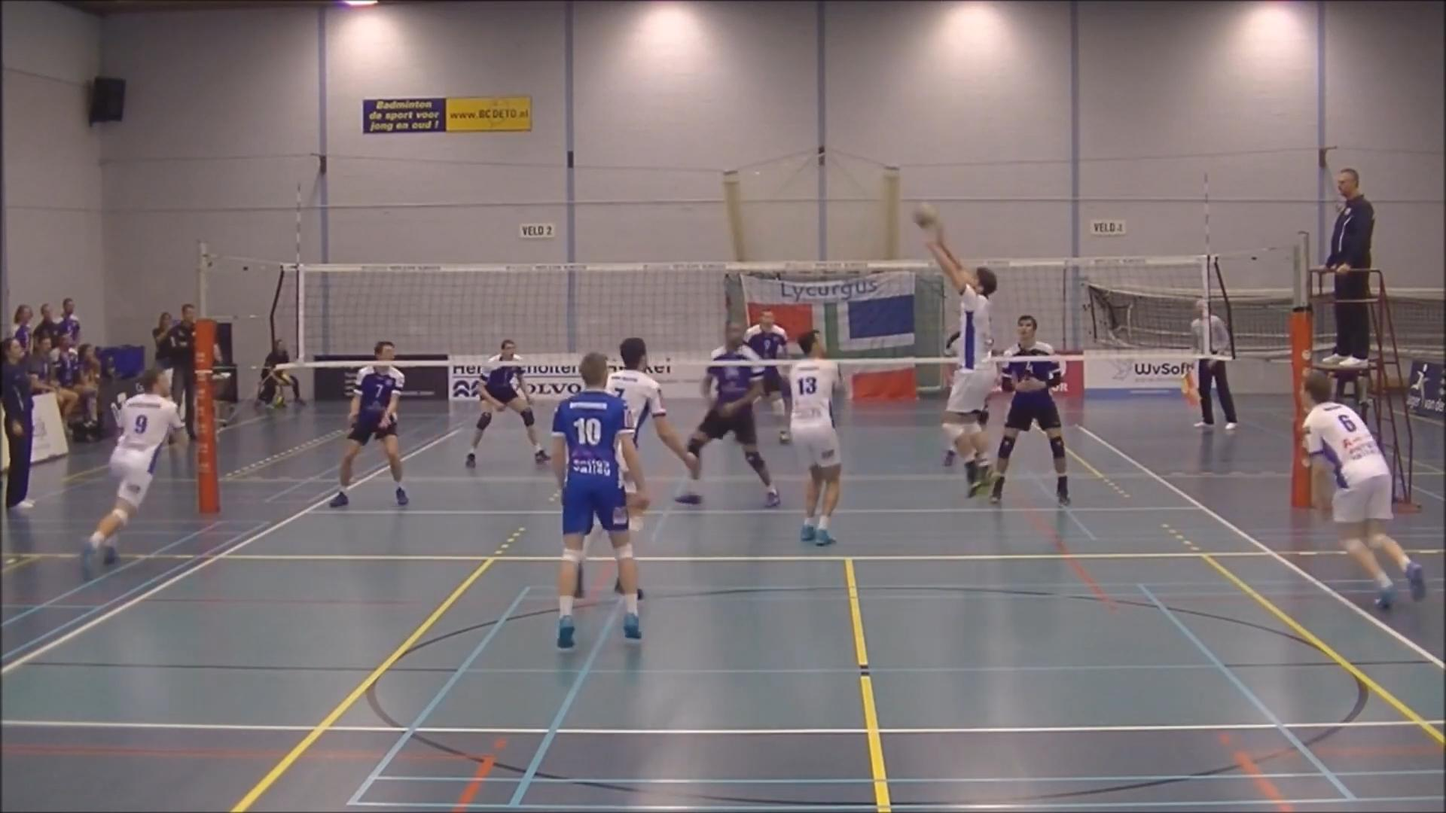Player: (1303, 371, 1425, 608), (553, 352, 648, 650), (81, 368, 184, 577), (687, 323, 780, 507), (990, 315, 1069, 506), (328, 341, 408, 507), (789, 331, 846, 545), (606, 337, 697, 470), (465, 340, 548, 467), (763, 364, 790, 444), (943, 436, 958, 467)
Set: (892, 217, 1004, 504)
ball: (906, 199, 940, 229)
